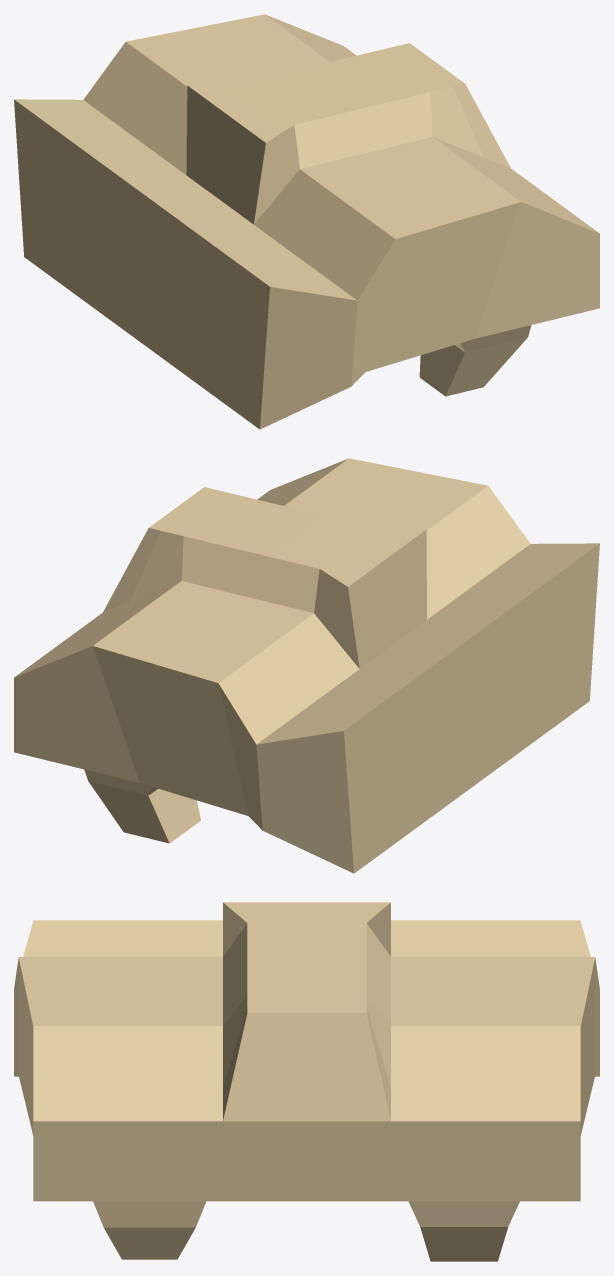
Rendered from GPE_SnakeMouth.fbx.
The picture shows the model from 3 angles, top to bottom: view 1: azimuth 30°, elevation 25°; view 2: azimuth 150°, elevation 25°; view 3: azimuth 270°, elevation 25°; orthographic projection. The views are drawn at different scales.
Visible parts, largest first — view 1: Cube.245; view 2: Cube.245; view 3: Cube.245.
Boxes of the visible parts, bbox=[...] form: Cube.245: bbox=[14, 14, 599, 429]; Cube.245: bbox=[14, 458, 599, 873]; Cube.245: bbox=[14, 902, 599, 1261].
Size of the model in its own units: 2.75 by 2 by 3.96.
